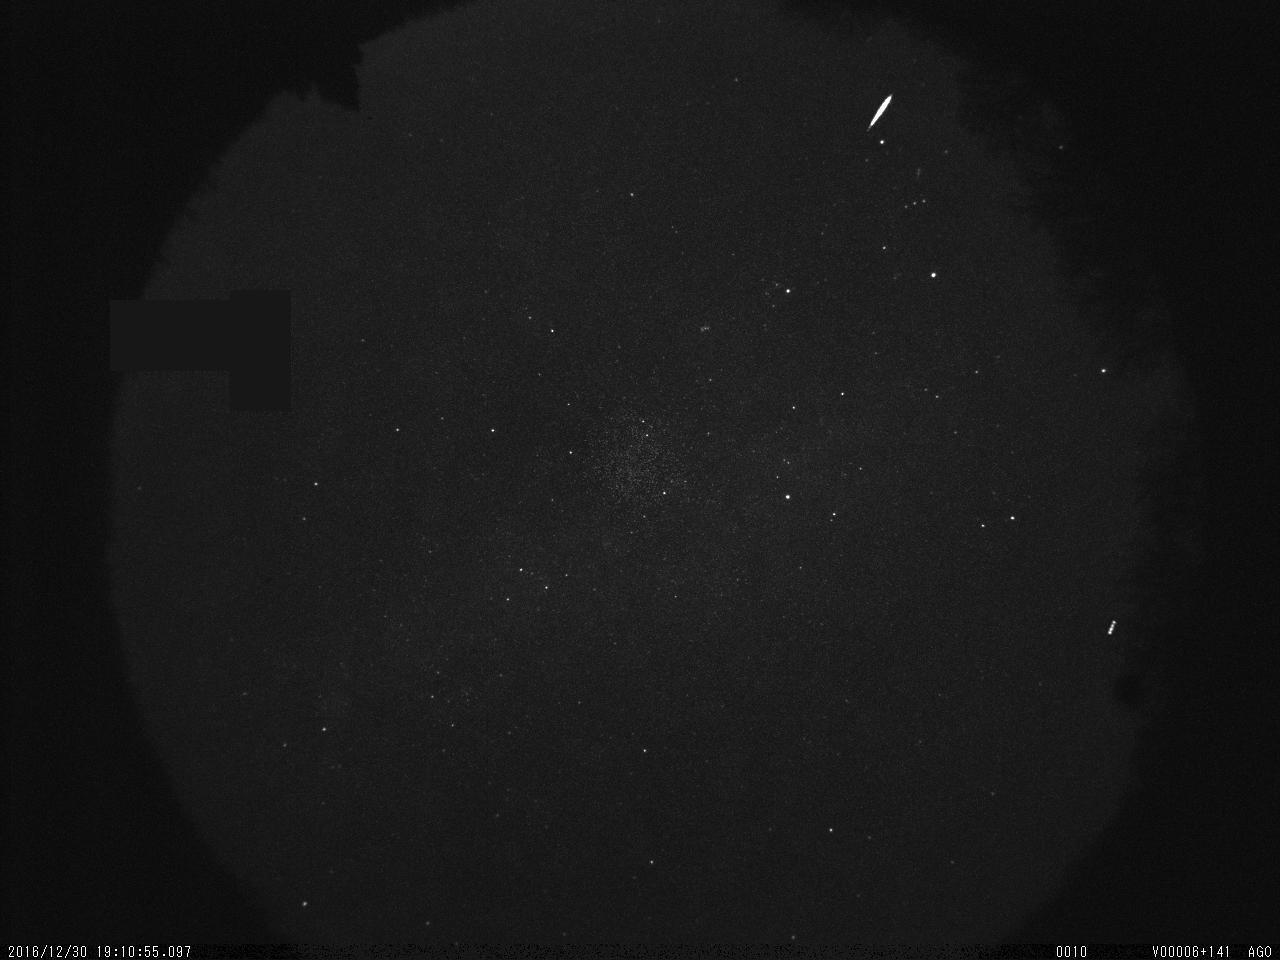meteor: (852, 84, 901, 144)
